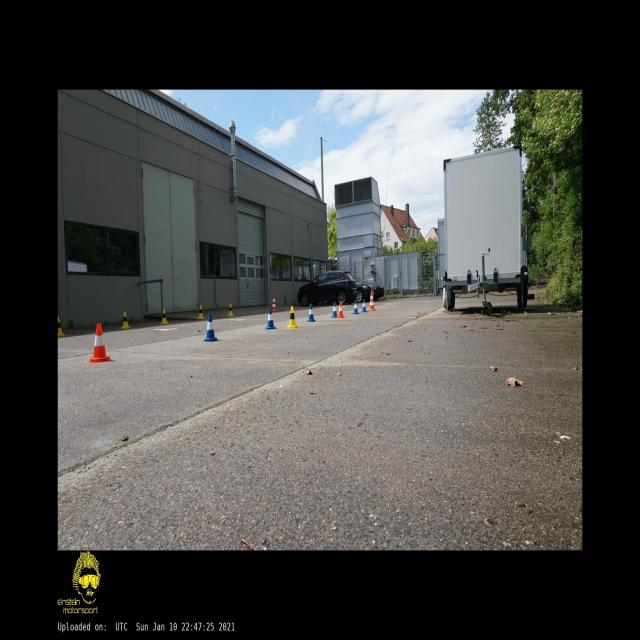blue_cone: (204, 314, 217, 341), (266, 307, 276, 329), (308, 303, 315, 322), (331, 302, 337, 318), (353, 300, 359, 314), (362, 300, 368, 312)
large_orange_cone: (368, 291, 376, 311), (271, 296, 277, 311)
orange_cone: (89, 324, 111, 362), (338, 301, 344, 318)
yellow_cone: (288, 306, 298, 328), (121, 312, 130, 328), (58, 317, 64, 335), (161, 309, 168, 324), (198, 305, 204, 319), (227, 304, 234, 316)
